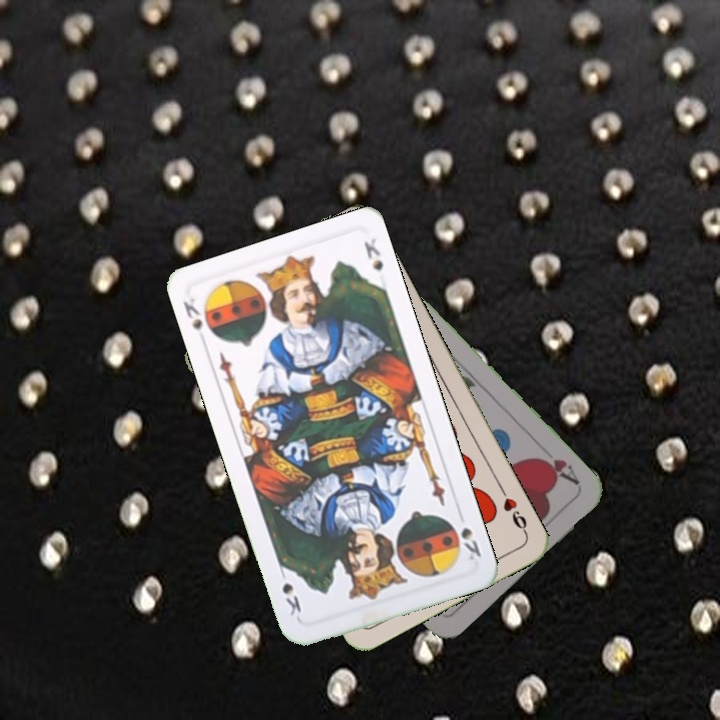H9: (496, 483, 530, 537)
HA: (532, 452, 582, 488)
SK: (179, 294, 218, 348), (454, 507, 484, 563)
